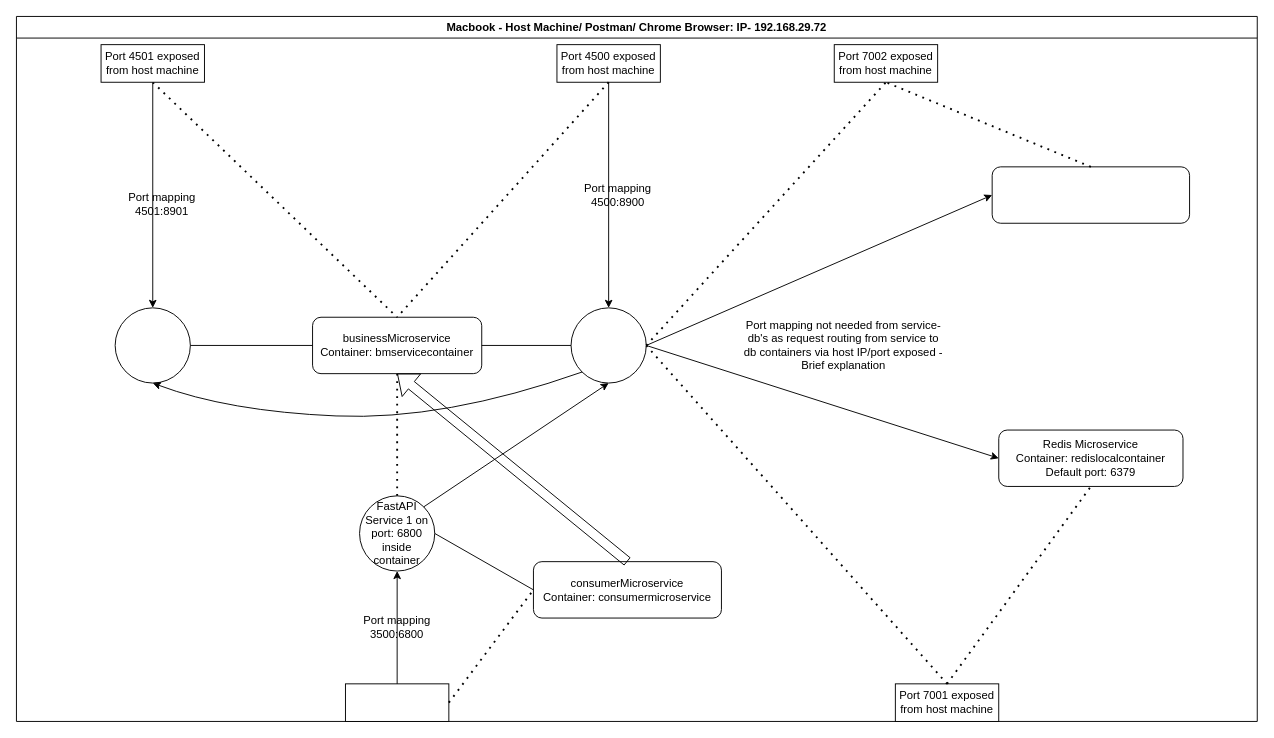
This 1274x738 diagram has some shape labels left out. The shapes that lost their labels are listed below. From the top down, each one's box as (x1, y1, x2, y2) in pixels, then its label:
(991, 166, 1190, 223): Postgres Microservice Container: postgreslocalcontainer Default port: 5432
(114, 307, 190, 383): FastAPI Service 2 on port: 8901 inside container
(570, 307, 646, 383): FastAPI Service 1 on port: 8900 inside container
(345, 683, 449, 721): Port 3500 exposed from host machine
